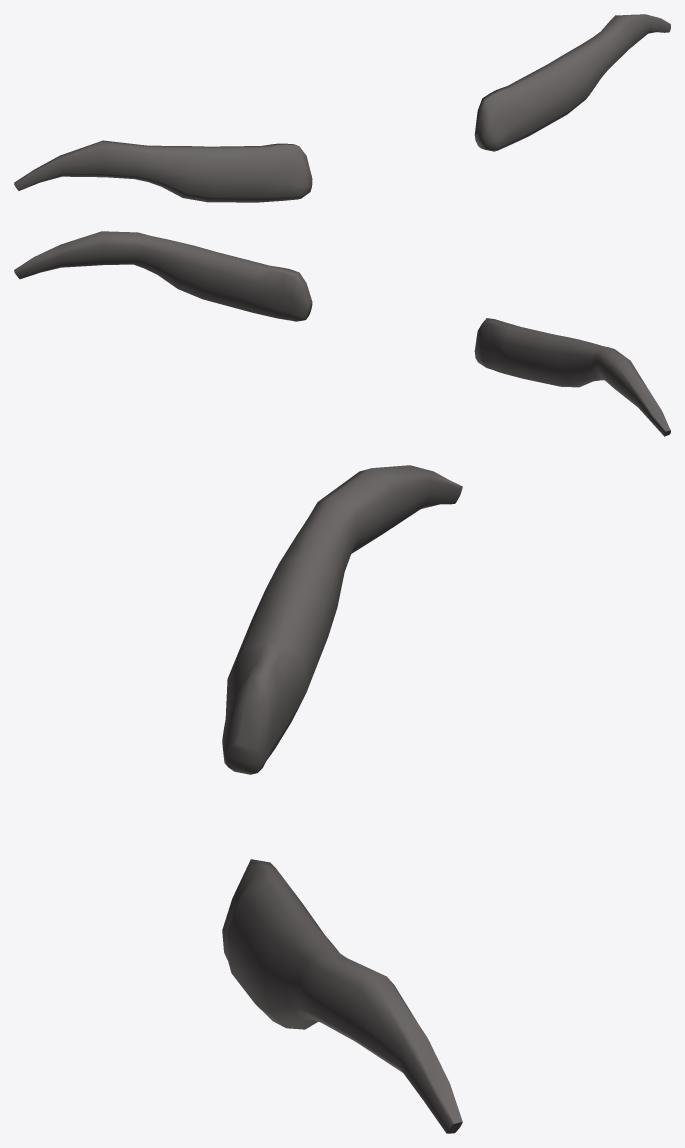
Rendered from Eyebrows_06_04.fbx.
3 views of the same model, one above another, from view 1: azimuth 30°, elevation 25°; view 2: azimuth 150°, elevation 25°; view 3: azimuth 270°, elevation 25° (orthographic). The views are drawn at different scales.
Visible parts, largest first — view 1: Eyebrows_06_04; view 2: Eyebrows_06_04; view 3: Eyebrows_06_04.
Boxes of the visible parts, <box> form: Eyebrows_06_04: <box>14,14,670,202</box>; Eyebrows_06_04: <box>14,231,670,436</box>; Eyebrows_06_04: <box>222,465,462,1133</box>.
Bounding box in the file's own units: 19.46 × 2.04 × 3.09.
